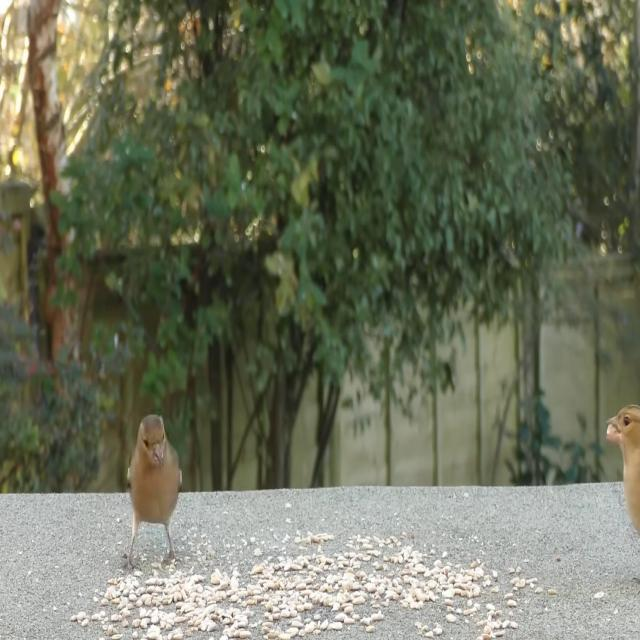beak: (150, 444, 165, 471)
bird: (125, 410, 186, 578), (605, 399, 640, 592)
